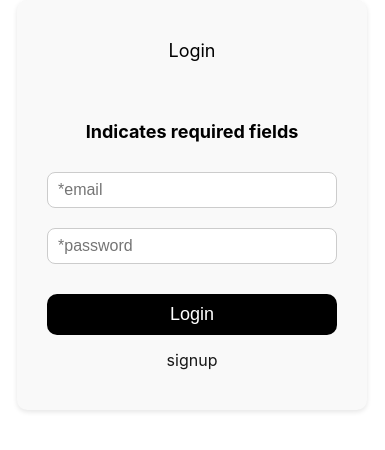
Test case: показывает ошибку при неверном email или пароле
Type "wrong@mail.com" into the field with placeholder "*email" at (192, 190), box [47, 172, 337, 208]
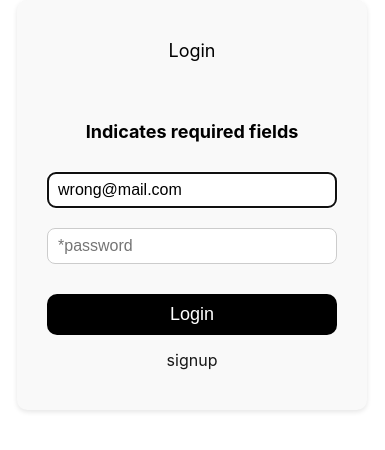
Type "0000" into the password field with placeholder "*password" at (192, 246), box [47, 228, 337, 264]
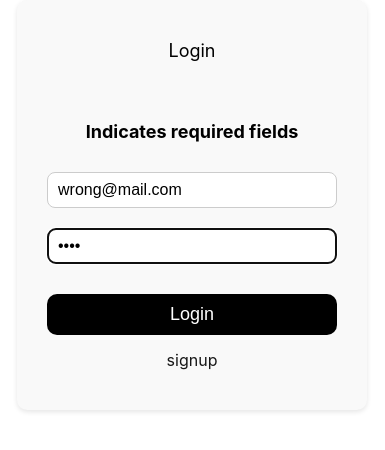
Submit the form "Login signup", box [47, 162, 337, 370]
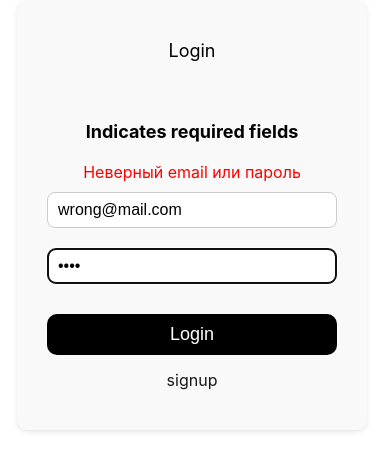
Check: the text "Неверный email или пароль" is shown, box [83, 162, 301, 182]
